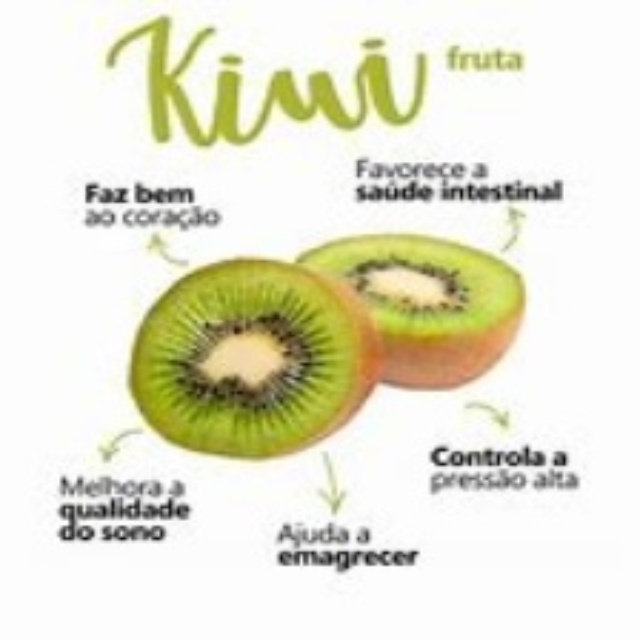kiwi: (131, 252, 377, 467), (299, 217, 541, 395)
